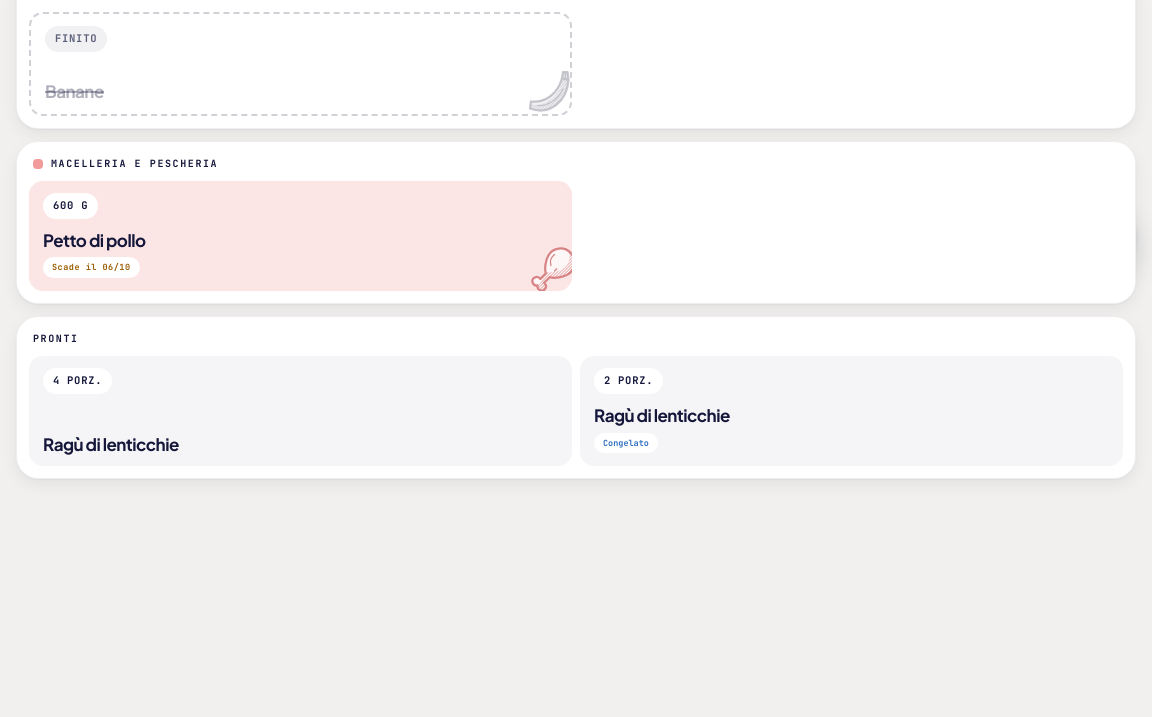
Test: Dispensa: il lotto › con un altro lotto vivo dello stesso piatto che copre gli impegni, il lotto non ne porta
The image size is (1152, 717).
(page scrolled)
Expected: the button with aria-label "Apri Petto di pollo" is shown, top-left (29, 181), bottom-right (572, 291)
Click the button with aria-label "Apri il lotto di Ragù di lenticchie" at (78, 381), box top-left (29, 356), bottom-right (572, 466)
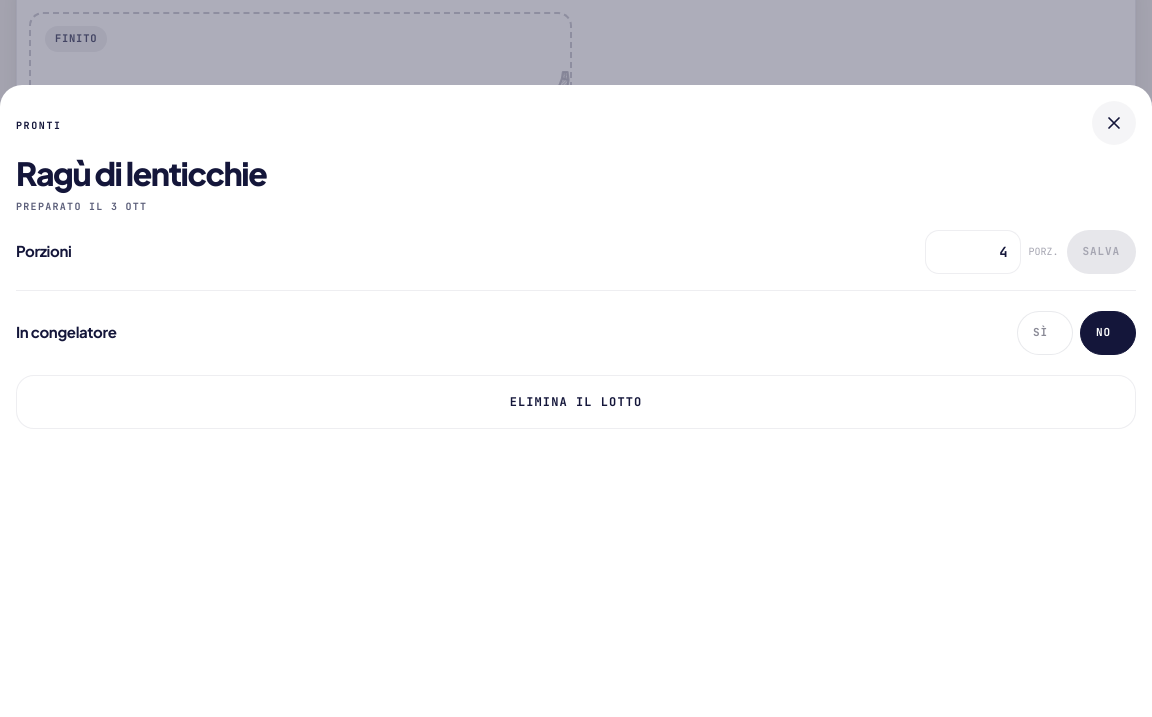
Click the button with aria-label "Elimina il lotto di Ragù di lenticchie" at (576, 402), box top-left (16, 375), bottom-right (1136, 429)
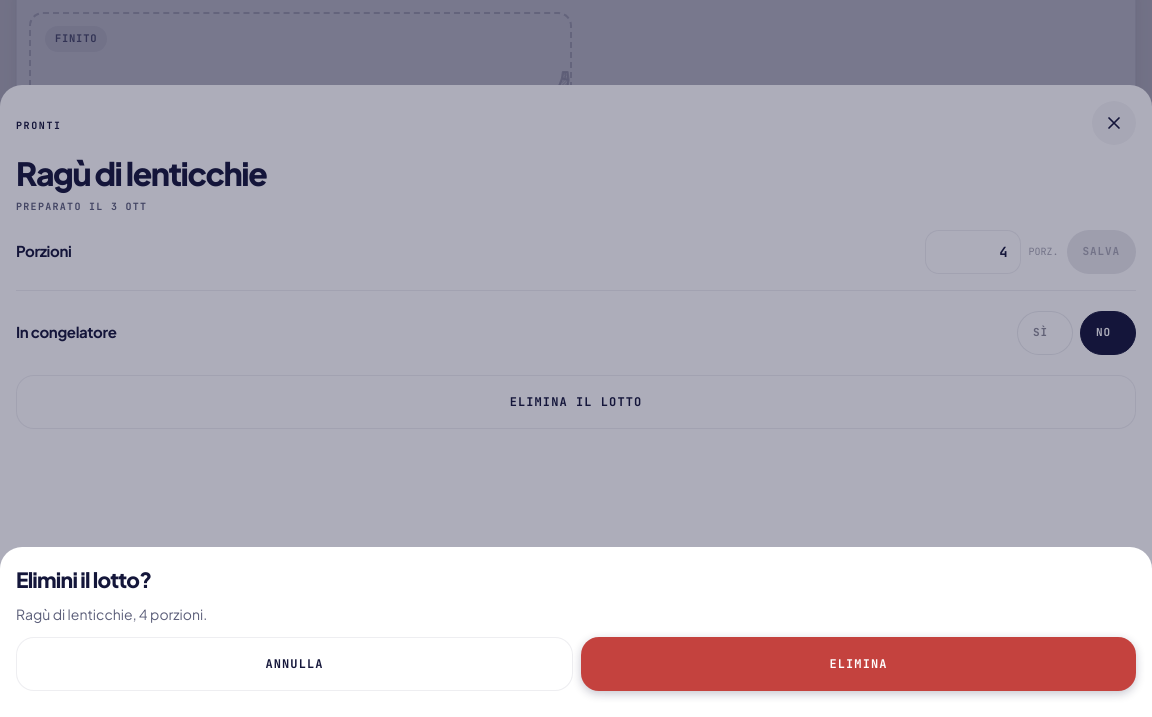
Now the text "Ragù di lenticchie, 4 porzioni." is shown, box top-left (16, 605), bottom-right (207, 623)
